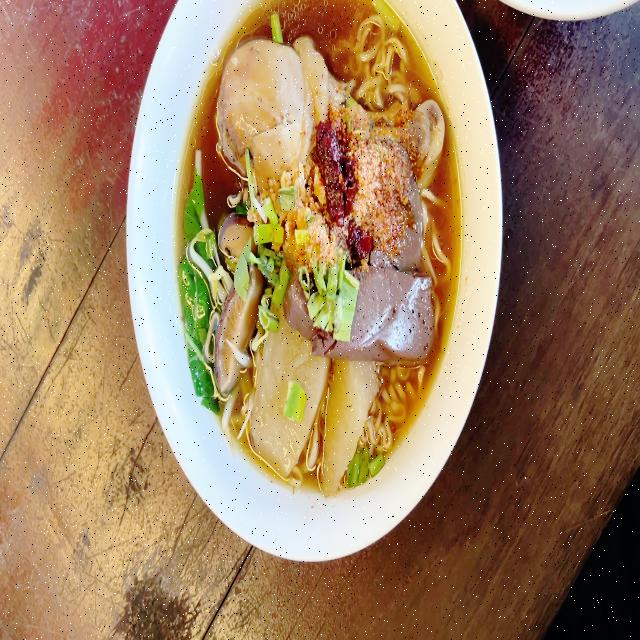boiled_chicken_blood_jelly: (344, 273, 438, 356)
chicken_drumstick: (214, 42, 447, 187)
daikon_radish: (246, 329, 374, 470)
noodle: (168, 0, 460, 494)
